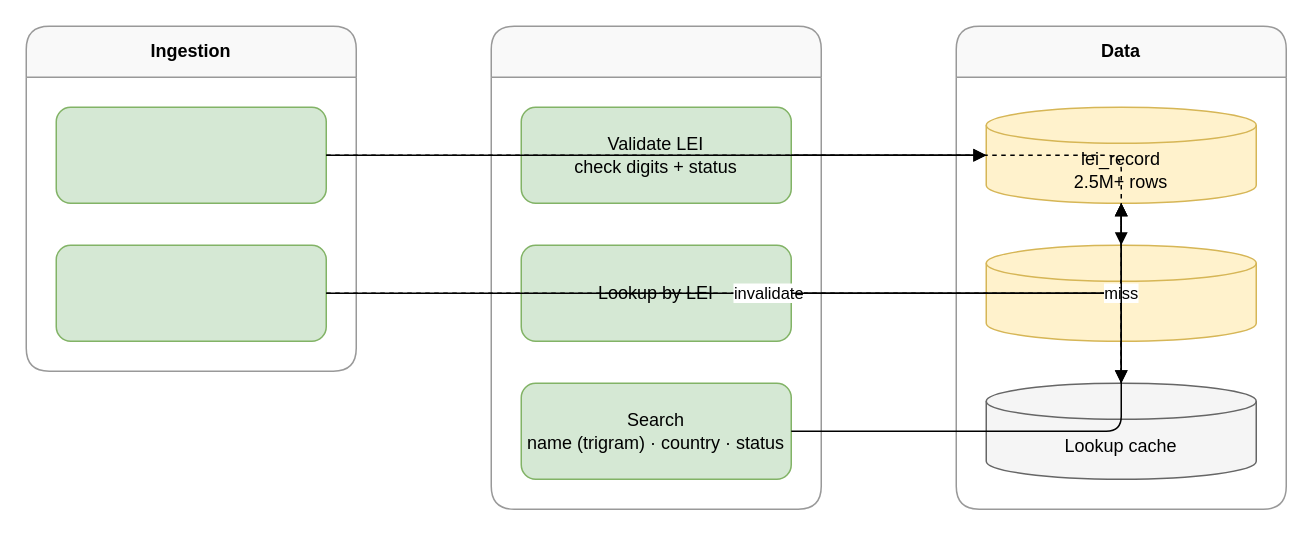
Some shapes in this 1313 by 536 pixel diagram are drawn without their labels. The box of each missing label's shape, as (x1, y1, x2, y2) in pixels:
Delta apply newer-wins upsert: (55, 244, 326, 341)
Full load COPY → staging: (55, 106, 326, 203)
relationship (parents, stretch): (985, 244, 1256, 341)
Serving: (490, 25, 821, 509)
